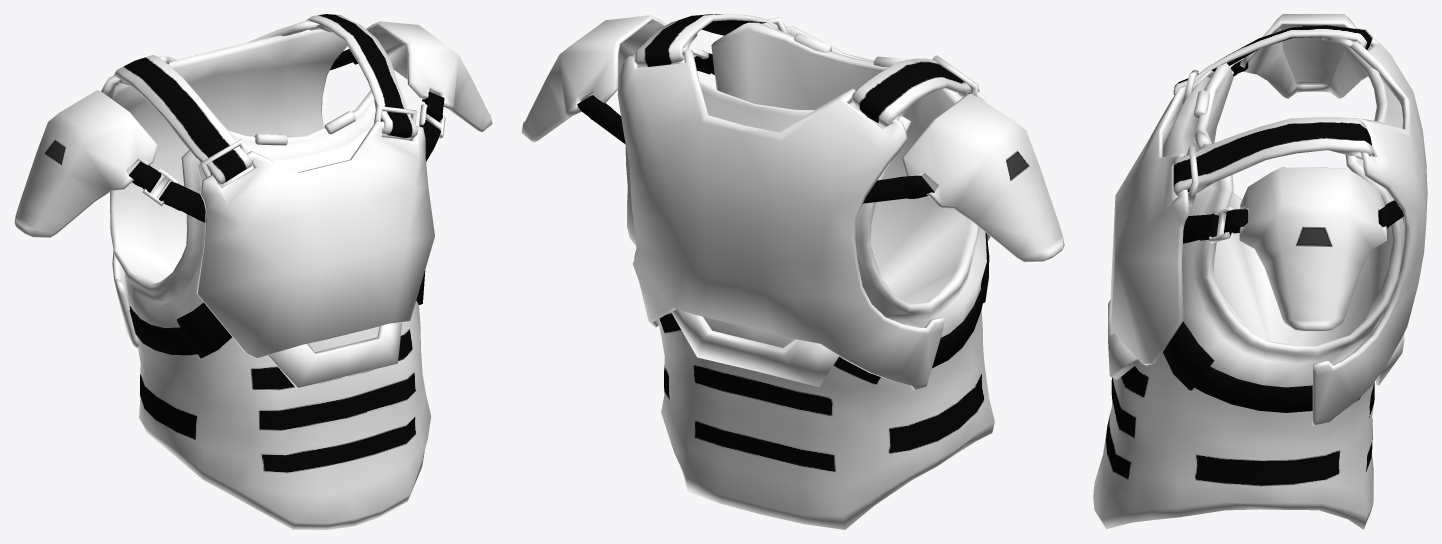
File: SurvivorMale_Armor_TactVest_HardineV2_LOD0.glb
3 renders of one model, left to right at view 1: azimuth 30°, elevation 25°; view 2: azimuth 150°, elevation 25°; view 3: azimuth 270°, elevation 25°, orthographic. The views are drawn at different scales.
Visible parts, largest first — view 1: Hoodie; view 2: Hoodie; view 3: Hoodie.
Part boxes in pixels (x1=…): Hoodie: x1=14, y1=14, x2=492, y2=529; Hoodie: x1=521, y1=14, x2=1064, y2=529; Hoodie: x1=1093, y1=14, x2=1427, y2=529.
Size of the model in its own units: 0.6687 by 0.5525 by 0.3869.
Materials: 1 (1 with a texture image).
